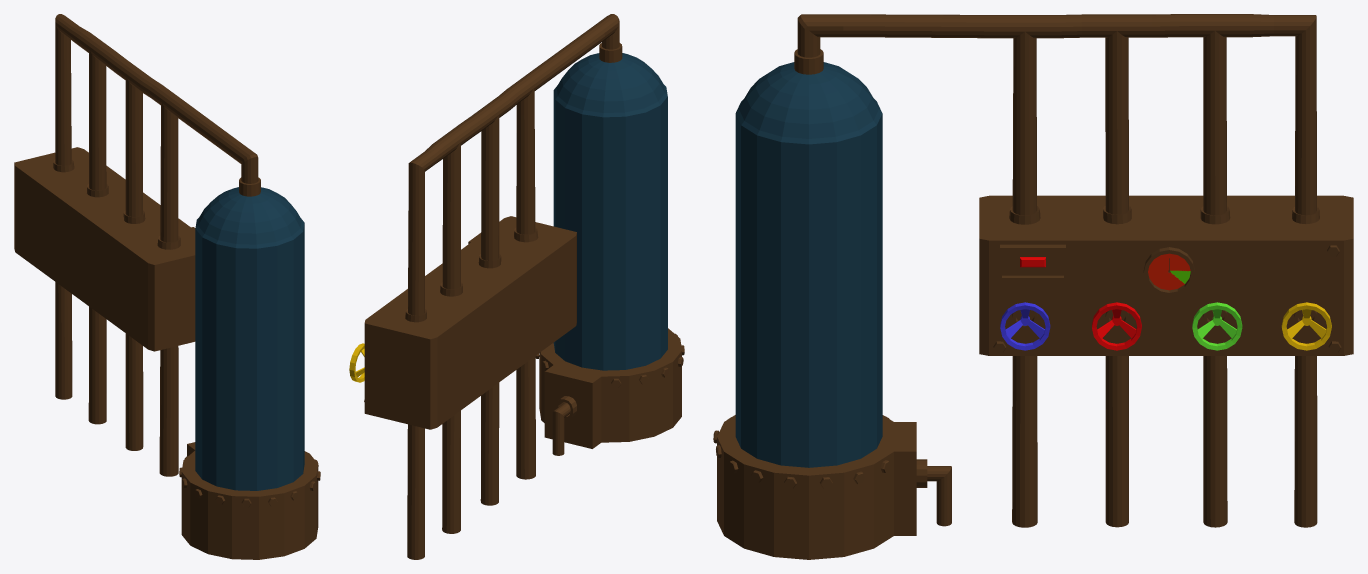
Rendered from Steam ENgine.fbx.
The picture shows the model from 3 angles, left to right: view 1: azimuth 30°, elevation 25°; view 2: azimuth 150°, elevation 25°; view 3: azimuth 270°, elevation 25°; orthographic projection. The views are drawn at different scales.
Visible parts, largest first — view 1: Engine, Tank#; view 2: Engine, Tank#; view 3: Engine, Tank#, Valve Blue, Valve Green, Valve Yellow, Valve Red, Face.
Boxes of the visible parts, x1,y1,x2,y2 form: Engine: (14, 14, 320, 559); Tank#: (195, 187, 304, 490); Engine: (364, 14, 684, 559); Tank#: (553, 53, 667, 370); Engine: (713, 14, 1353, 559); Tank#: (735, 62, 882, 467); Valve Blue: (1000, 302, 1050, 350); Valve Green: (1192, 302, 1242, 350); Valve Yellow: (1281, 302, 1331, 350); Valve Red: (1092, 302, 1141, 350); Face: (1148, 253, 1190, 290).
Bounding box in the file's own units: 1073 × 3184 × 3635.
Materials: 8 (1 with a texture image).
